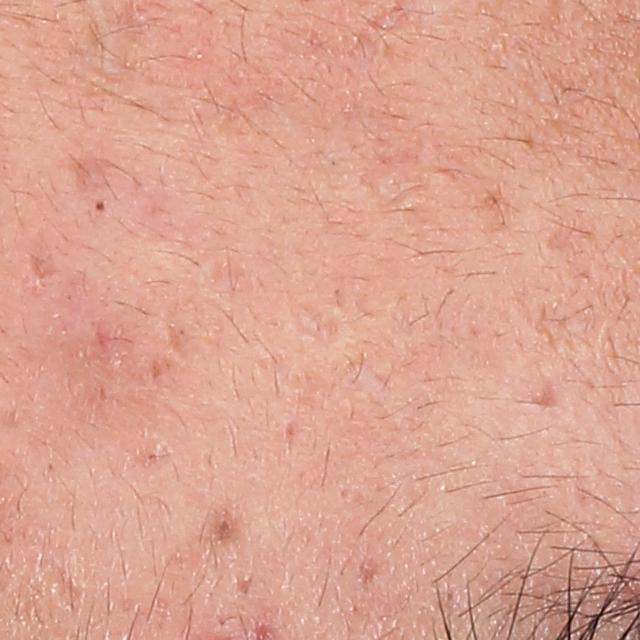atrophic_scar: (289, 290, 354, 354), (28, 250, 64, 283), (231, 570, 258, 599), (360, 552, 380, 585)
comedo: (82, 193, 114, 217), (207, 513, 235, 538)
